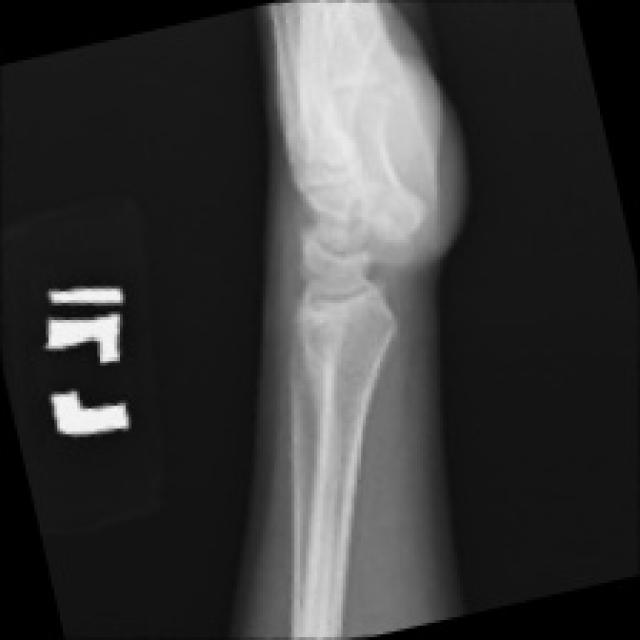fracture: (270, 134, 450, 371)
